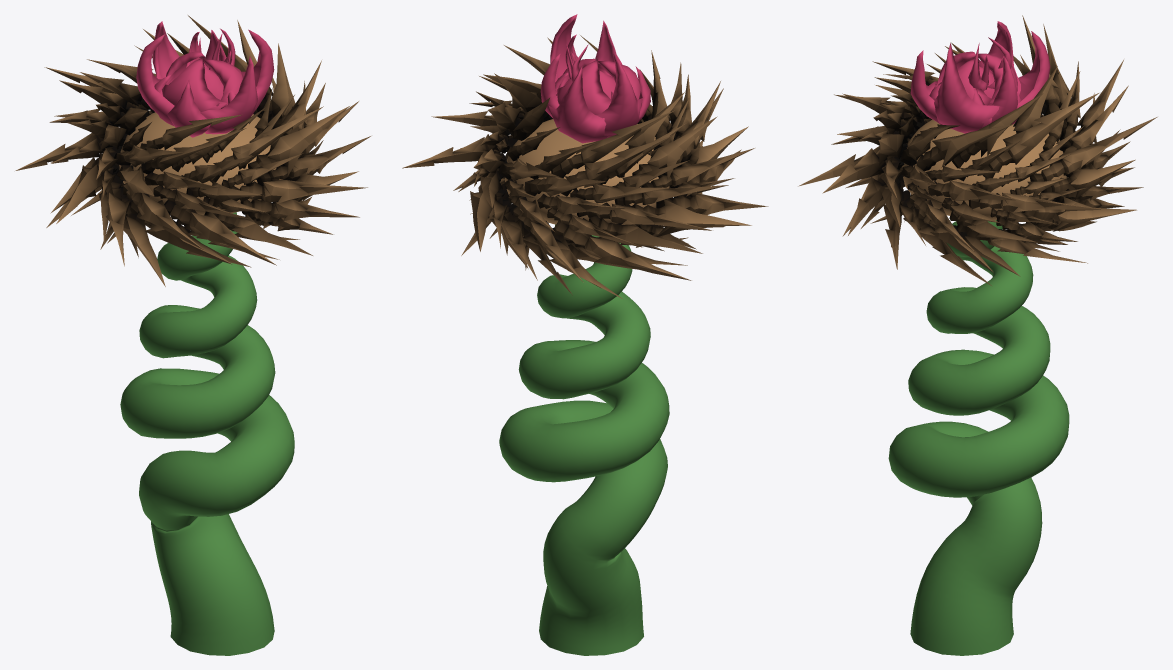
File: SpikePod.fbx
The picture shows the model from 3 angles, left to right: view 1: azimuth 30°, elevation 25°; view 2: azimuth 150°, elevation 25°; view 3: azimuth 270°, elevation 25°; orthographic projection.
Visible parts, largest first — view 1: SP_Stalk, SP_Crown, SP_Pod, SP_CrownBase; view 2: SP_Stalk, SP_Crown, SP_Pod, SP_CrownBase; view 3: SP_Stalk, SP_Crown, SP_Pod, SP_CrownBase.
Part boxes in pixels (box(x1,y1,x2,y2)): SP_Stalk: box(120, 212, 294, 655); SP_Crown: box(15, 15, 370, 286); SP_Pod: box(136, 21, 274, 137); SP_CrownBase: box(119, 112, 282, 215); SP_Stalk: box(499, 224, 669, 655); SP_Crown: box(402, 35, 768, 299); SP_Pod: box(540, 14, 650, 143); SP_CrownBase: box(505, 119, 669, 224); SP_Stalk: box(888, 220, 1069, 655); SP_Crown: box(798, 15, 1157, 285); SP_Pod: box(910, 21, 1050, 133); SP_CrownBase: box(902, 119, 1066, 220).
Size of the model in its own units: 4.8 by 9.3 by 5.07.
